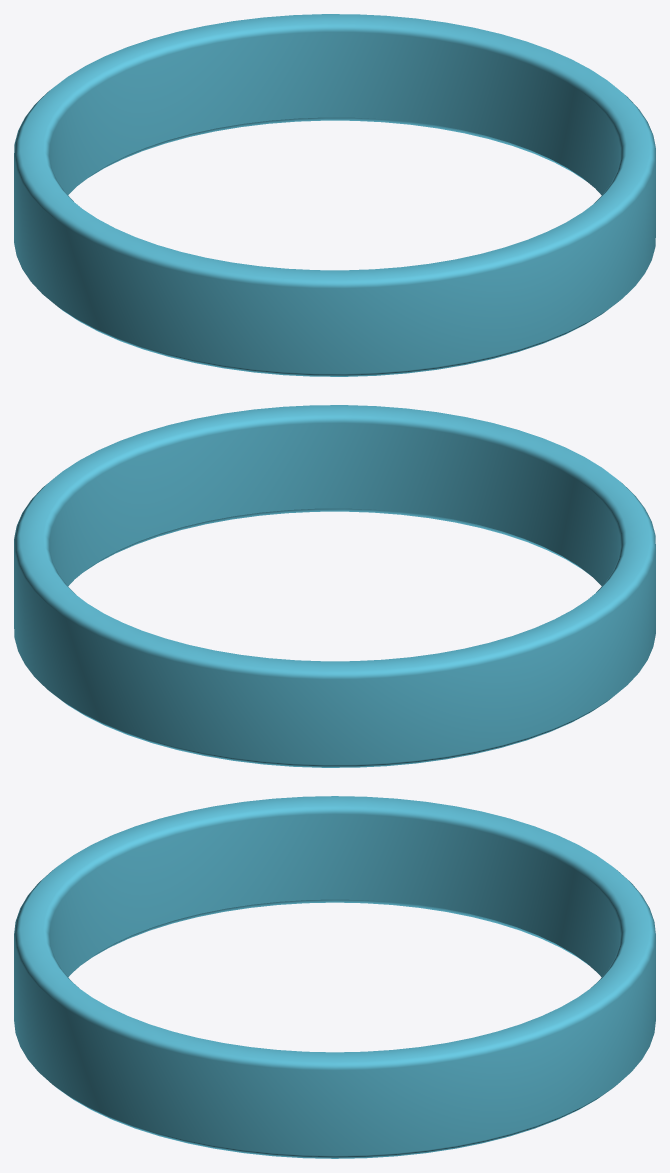
3 views of the same model, one above another, from view 1: azimuth 30°, elevation 25°; view 2: azimuth 150°, elevation 25°; view 3: azimuth 270°, elevation 25° (orthographic).
Visible parts, largest first — view 1: seal_body; view 2: seal_body; view 3: seal_body.
Part boxes in pixels (box(x1,y1,x2,y2)): seal_body: box(14, 14, 655, 376); seal_body: box(14, 405, 655, 767); seal_body: box(14, 796, 655, 1158).
Size of the model in its own units: 0.0571 by 0.00952 by 0.0571.
